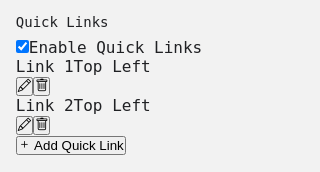
Test case: QuickLinksSection › deletes a link
What coordinates should you click on to do the following:
click the button named "Delete Link 1"
I would click on:
 (42, 86)
Its box is [33,76,50,96].
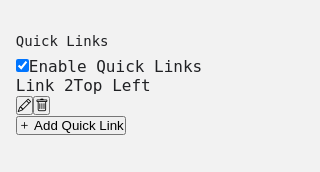
Now the text "Link 1" is gone
